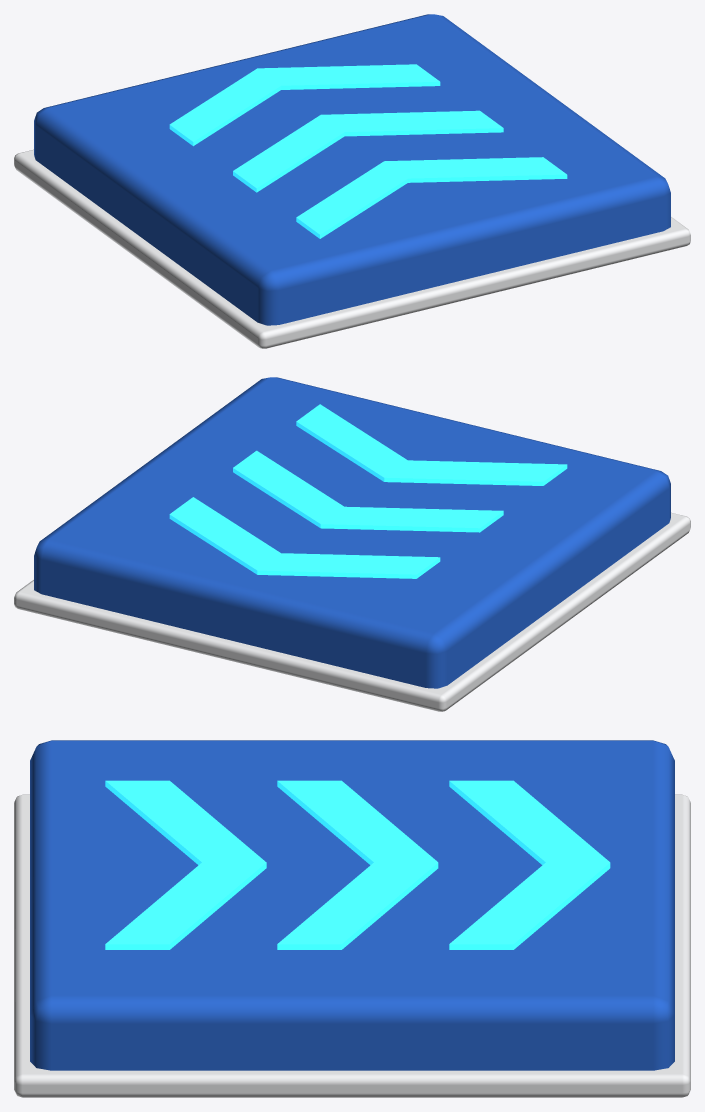
Rendered from PLAT_Moving.glb.
3 views of the same model, one above another, from view 1: azimuth 30°, elevation 25°; view 2: azimuth 150°, elevation 25°; view 3: azimuth 270°, elevation 25° (orthographic). The views are drawn at different scales.
Visible parts, largest first — view 1: Body, Rim, Chevron_2, Chevron_0, Chevron_1; view 2: Body, Rim, Chevron_2, Chevron_0, Chevron_1; view 3: Body, Rim, Chevron_0, Chevron_1, Chevron_2.
Boxes of the visible parts, left/top/right/bottom form: Body: left=34, top=14, right=670, bottom=325; Rim: left=14, top=149, right=690, bottom=348; Chevron_2: left=169, top=64, right=440, bottom=146; Chevron_0: left=296, top=157, right=567, bottom=238; Chevron_1: left=233, top=110, right=503, bottom=192; Body: left=34, top=377, right=670, bottom=688; Rim: left=14, top=512, right=690, bottom=711; Chevron_2: left=169, top=497, right=440, bottom=578; Chevron_0: left=296, top=404, right=567, bottom=485; Chevron_1: left=233, top=450, right=503, bottom=532; Body: left=30, top=740, right=674, bottom=1070; Rim: left=14, top=794, right=690, bottom=1097; Chevron_0: left=105, top=780, right=266, bottom=949; Chevron_1: left=277, top=780, right=438, bottom=949; Chevron_2: left=449, top=780, right=610, bottom=949.
Bounding box in the file's own units: 3.15 × 0.88 × 3.15.
